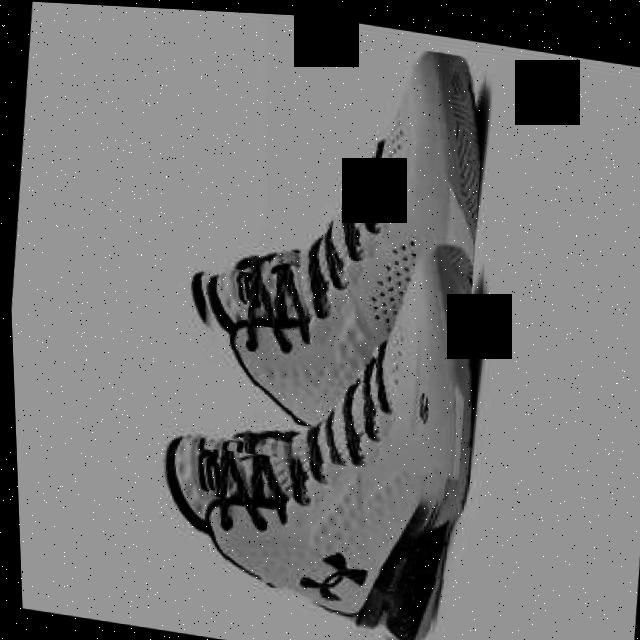shoe: (162, 12, 500, 484), (135, 206, 495, 640)
